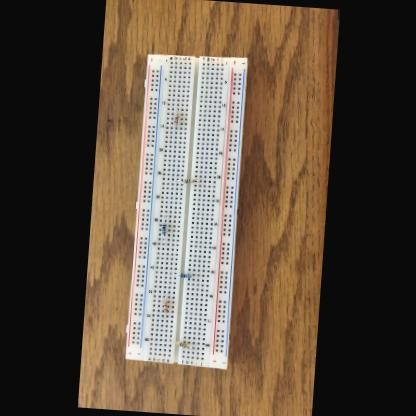breadboard: (124, 50, 249, 369)
resistor: (176, 340, 187, 347), (161, 299, 167, 311), (172, 113, 178, 124), (182, 177, 194, 182), (178, 272, 190, 277), (160, 223, 165, 234)
wire: (163, 210, 166, 222), (190, 273, 198, 277), (161, 234, 164, 244), (169, 271, 178, 274), (188, 344, 193, 348), (169, 340, 176, 342), (176, 178, 182, 180), (162, 312, 165, 316), (176, 108, 178, 112), (162, 295, 164, 299), (174, 124, 176, 127), (194, 180, 200, 180)
